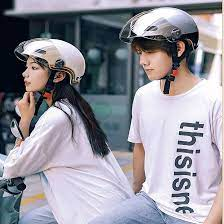helmets: (13, 39, 86, 87)
